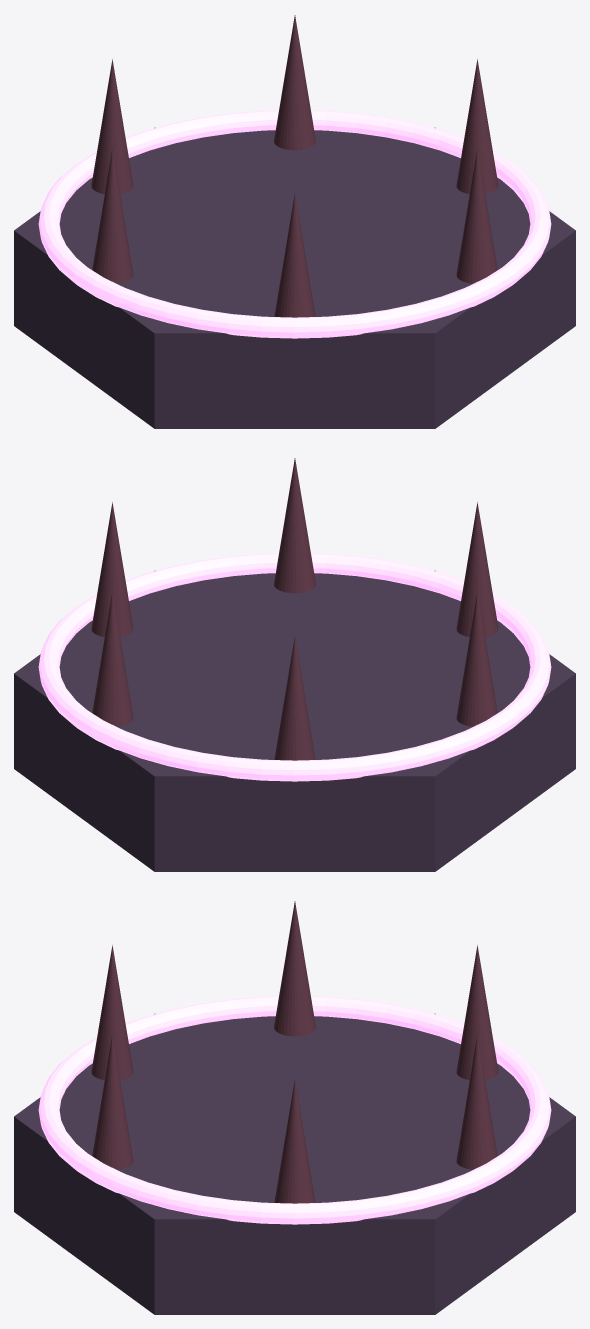
The model's file is villain_pedestal.fbx.
The picture shows the model from 3 angles, top to bottom: view 1: azimuth 30°, elevation 25°; view 2: azimuth 150°, elevation 25°; view 3: azimuth 270°, elevation 25°; orthographic projection.
Visible parts, largest first — view 1: Cylinder, Torus.004, Cone.001, Cone.005, Cone.003, Cone, Cone.002, Cone.004; view 2: Cylinder, Torus.004, Cone.005, Cone.001, Cone.003, Cone, Cone.004, Cone.002; view 3: Cylinder, Torus.004, Cone.003, Cone.001, Cone.005, Cone.002, Cone.004, Cone.
Part boxes in pixels (<box>): Cylinder: <box>14,127,575,428</box>; Torus.004: <box>38,110,551,338</box>; Cone.001: <box>274,15,315,150</box>; Cone.005: <box>456,148,497,283</box>; Cone.003: <box>92,148,133,283</box>; Cone: <box>456,59,498,193</box>; Cone.002: <box>91,59,133,193</box>; Cone.004: <box>274,193,315,317</box>; Cylinder: <box>14,570,575,871</box>; Torus.004: <box>38,553,551,781</box>; Cone.005: <box>274,458,315,593</box>; Cone.001: <box>92,591,133,726</box>; Cone.003: <box>456,591,497,726</box>; Cone: <box>91,502,133,636</box>; Cone.004: <box>456,502,498,636</box>; Cone.002: <box>274,636,315,760</box>; Cylinder: <box>14,1013,575,1314</box>; Torus.004: <box>38,996,551,1224</box>; Cone.003: <box>274,901,315,1036</box>; Cone.001: <box>456,1034,497,1169</box>; Cone.005: <box>92,1034,133,1169</box>; Cone.002: <box>456,945,498,1079</box>; Cone.004: <box>91,945,133,1079</box>; Cone: <box>274,1079,315,1203</box>.
Bounding box in the file's own units: 730 × 350 × 800.
